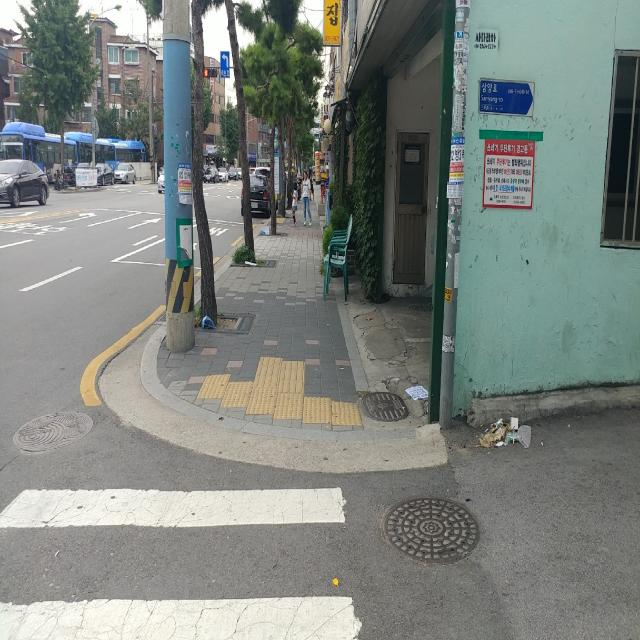횡단보도: (0, 486, 363, 640)
